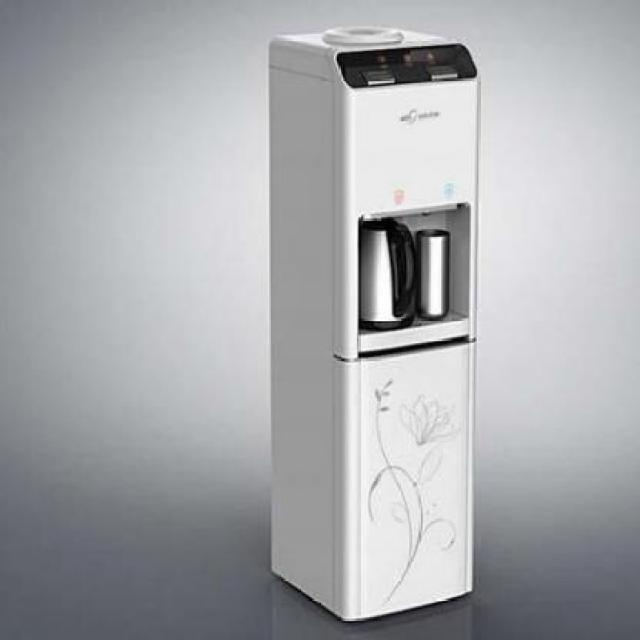cooler: (268, 25, 480, 627)
